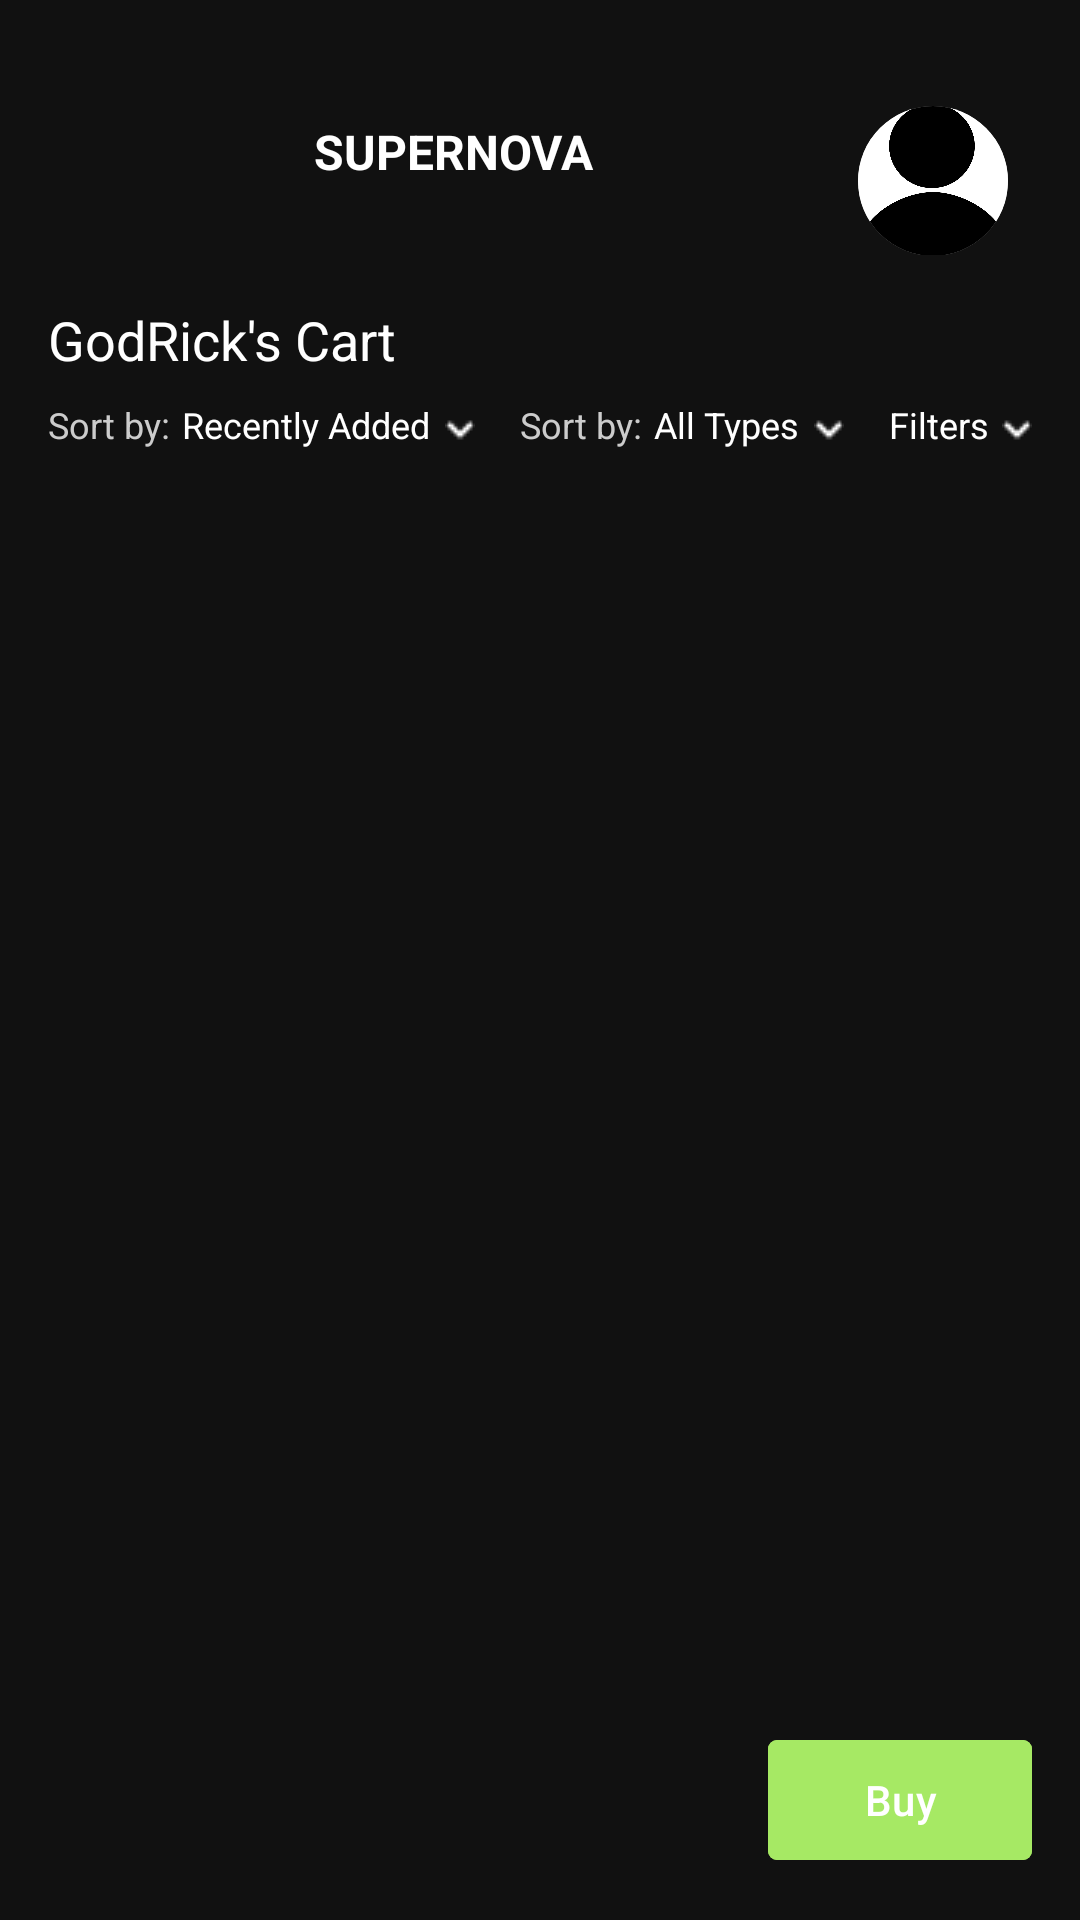

Point at icon controls on the screen. Image size 1080 x 1920, points as [x,y].
down: [460,430], [829,430], [1017,430]
profileavatar: [933,180]
